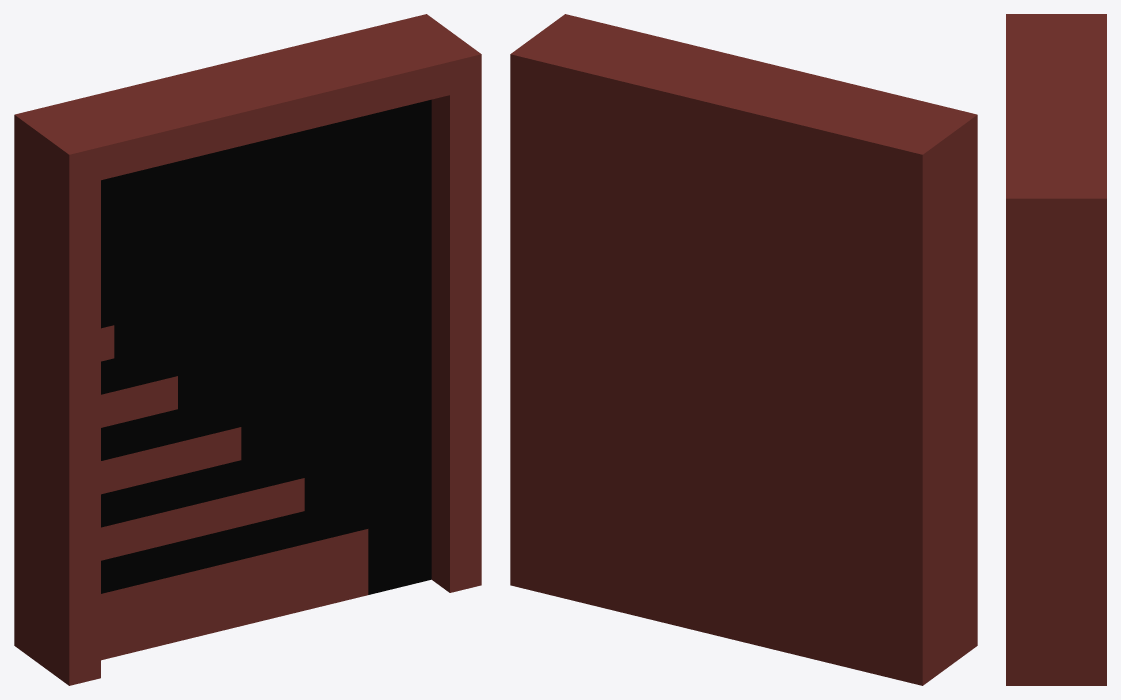
File: dungeon_b_a_entrance_b_flipped.obj
3 renders of one model, left to right at view 1: azimuth 30°, elevation 25°; view 2: azimuth 150°, elevation 25°; view 3: azimuth 270°, elevation 25°, orthographic. The views are drawn at different scales.
Bounding box in the file's own units: 1.3 × 1.6 × 0.3.
1 material, 1 textured.
